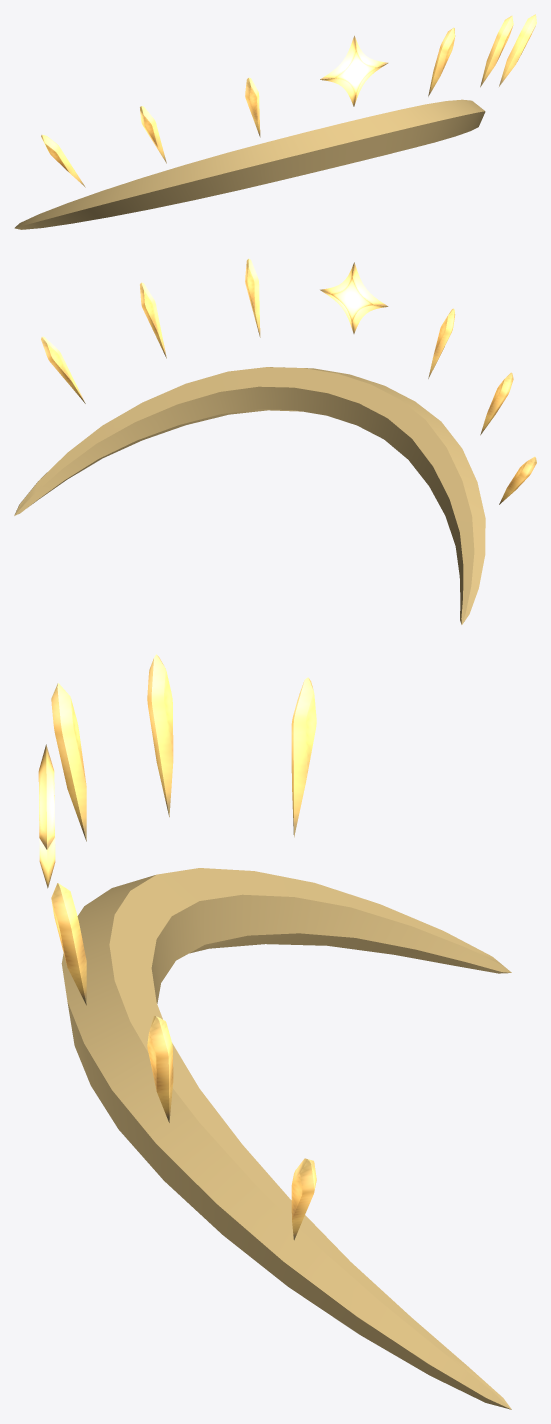
The model's file is Sincerity Curve.fbx.
3 views of the same model, one above another, from view 1: azimuth 30°, elevation 25°; view 2: azimuth 150°, elevation 25°; view 3: azimuth 270°, elevation 25° (orthographic). The views are drawn at different scales.
Visible parts, largest first — view 1: Sincerity Curve; view 2: Sincerity Curve; view 3: Sincerity Curve.
Boxes of the visible parts, x1,y1,x2,y2 form: Sincerity Curve: (14, 14, 536, 229); Sincerity Curve: (14, 258, 536, 624); Sincerity Curve: (38, 654, 511, 1409).
Bounding box in the file's own units: 0.1866 × 0.0807 × 0.0774.
